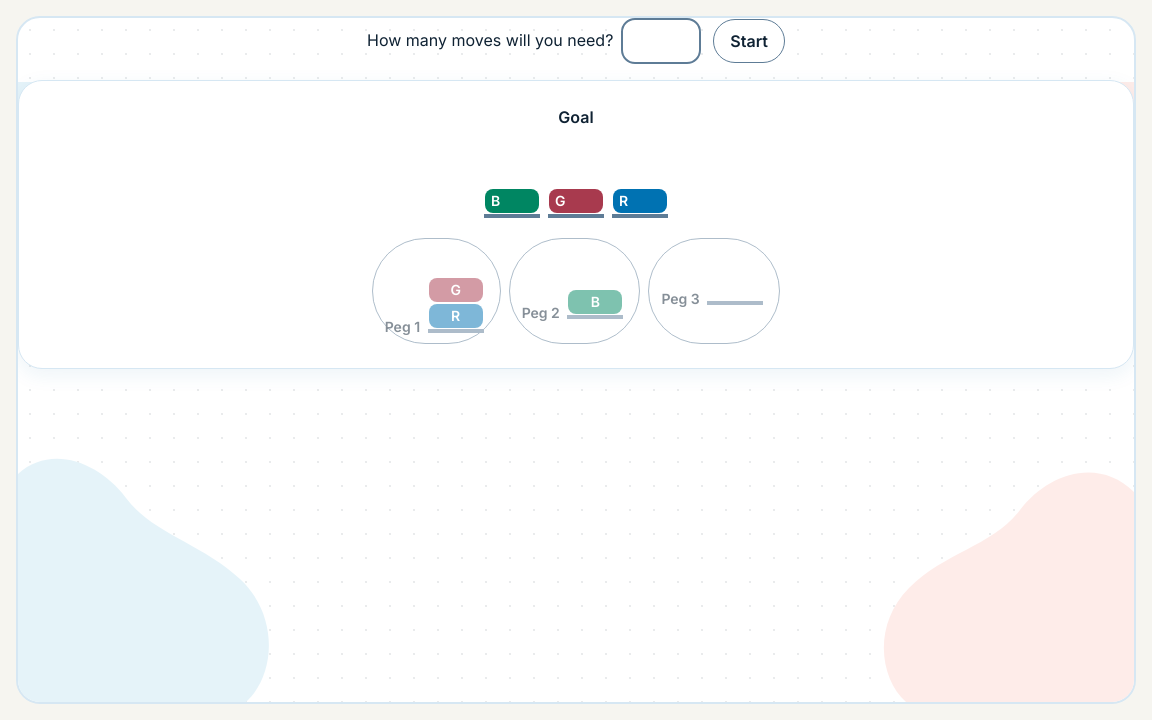
Test: an invalid prediction shows a hint
The image size is (1152, 720).
In the number field labelled "How many moves will you need?": (661, 41) top-left (621, 18), bottom-right (701, 64), type "0"
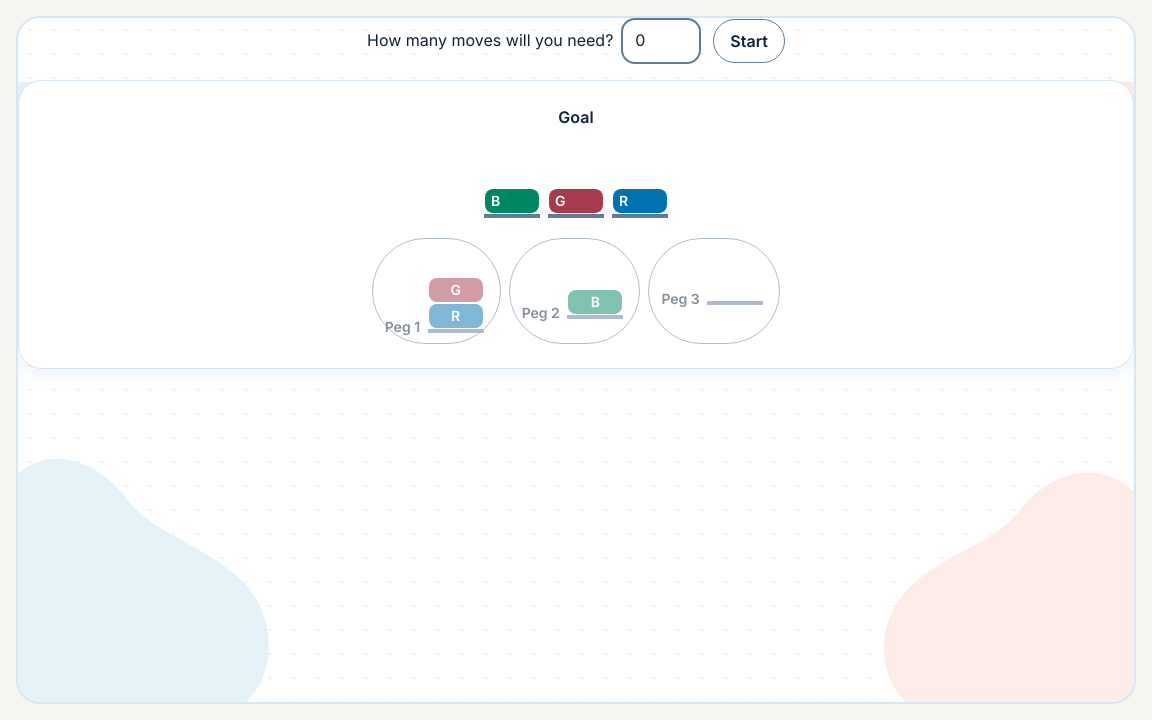
Click the button "Start": (749, 41) top-left (713, 19), bottom-right (785, 63)
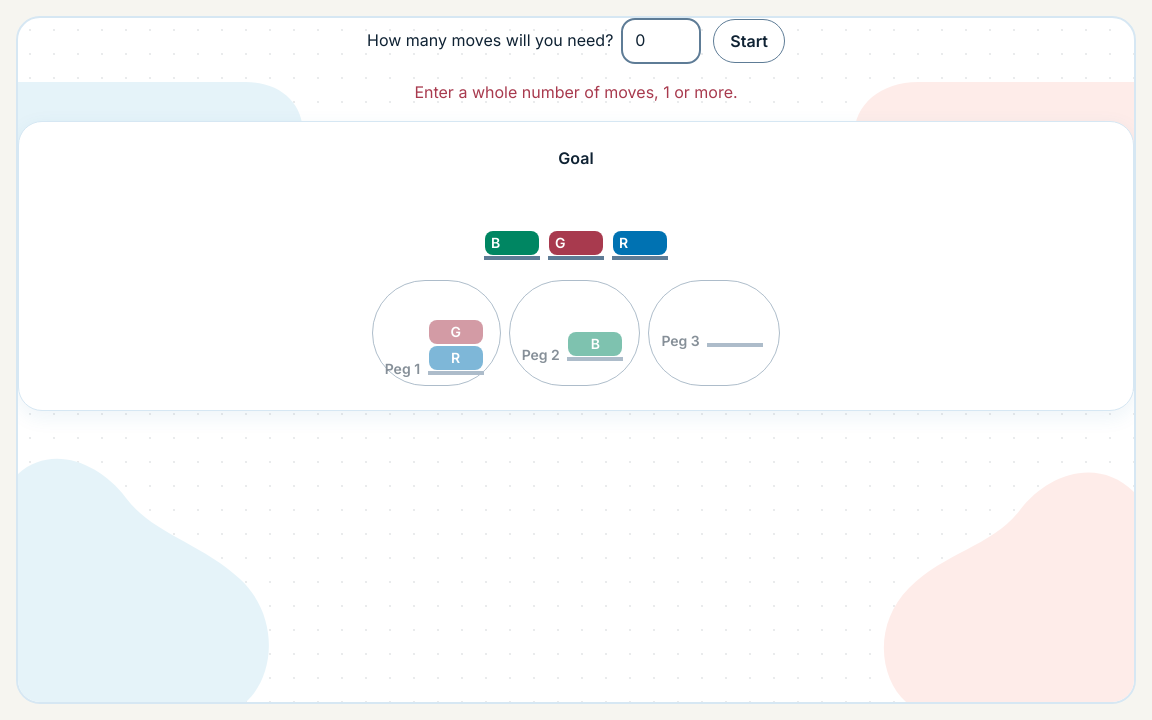
Result: the message shows "whole number" at top-left (414, 82), bottom-right (738, 102)
Replace the text in the number field labelled "How many moves will you need?" with "5": (661, 41) top-left (621, 18), bottom-right (701, 64)
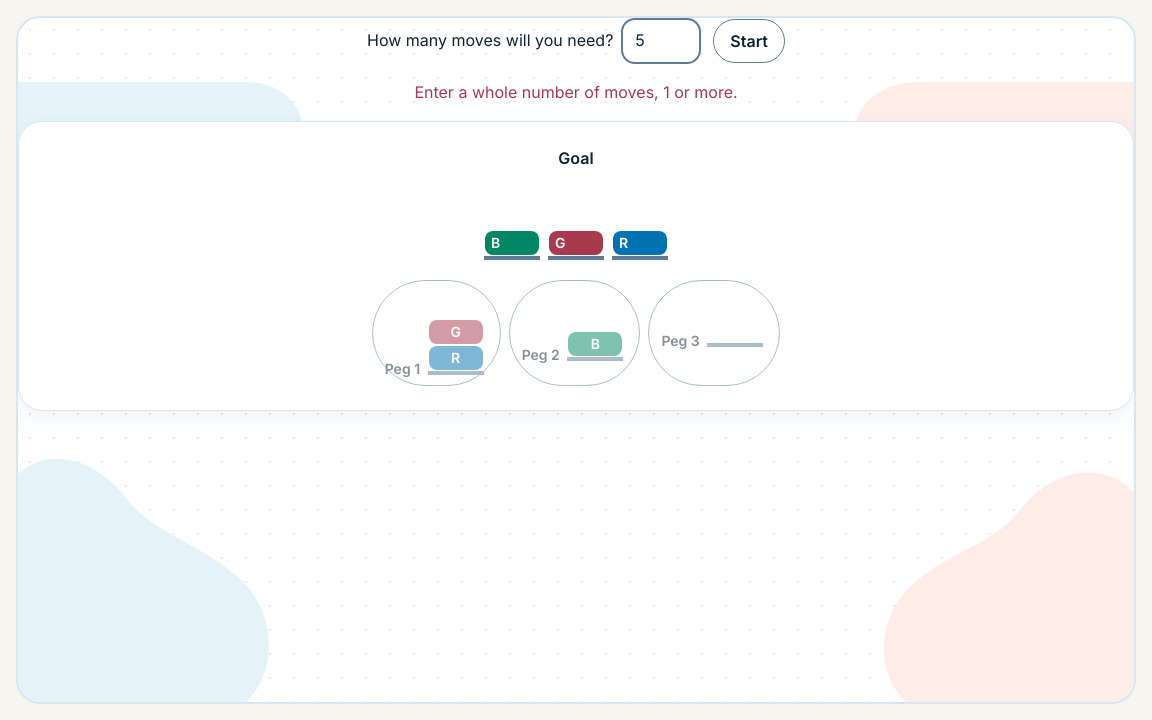
Click the button "Start": (749, 41) top-left (713, 19), bottom-right (785, 63)
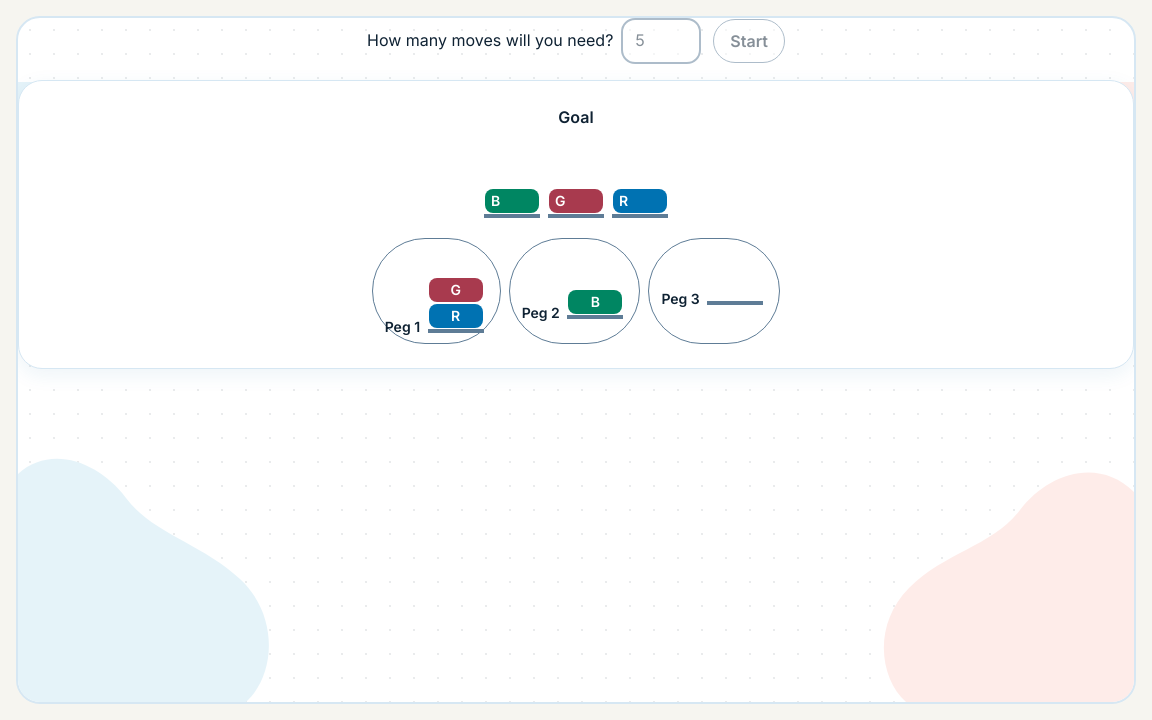
Result: the message "Enter a whole number of moves, 1 or more." is gone
